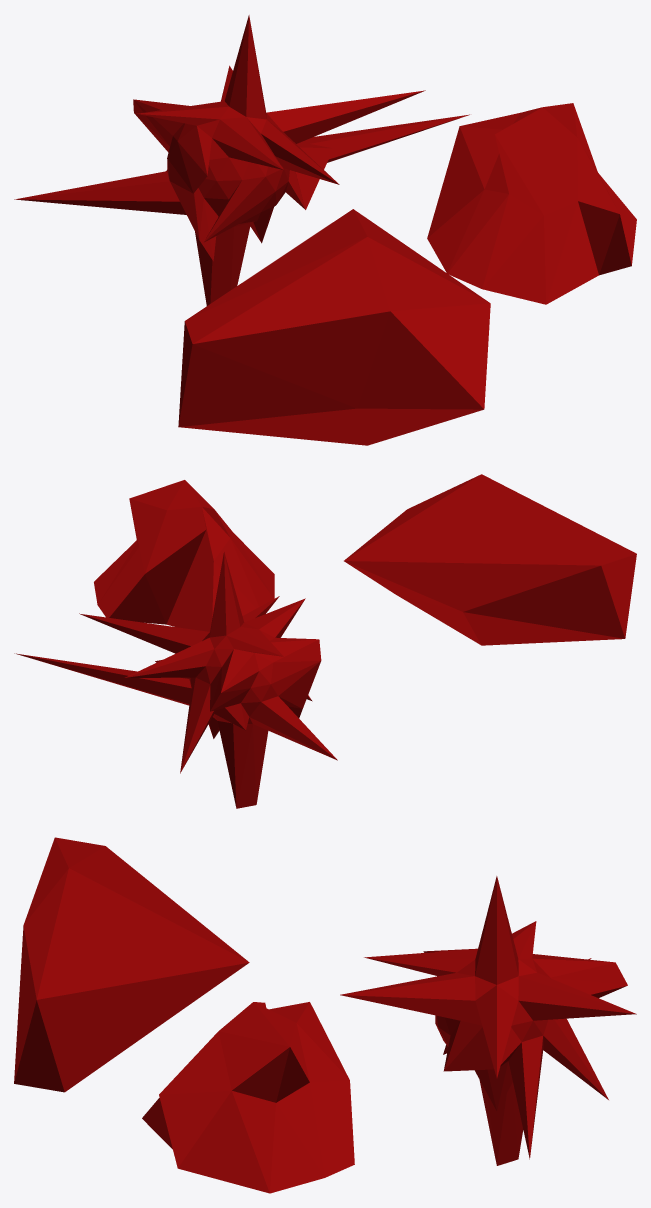
The model's file is Rcok .fbx.
The picture shows the model from 3 angles, top to bottom: view 1: azimuth 30°, elevation 25°; view 2: azimuth 150°, elevation 25°; view 3: azimuth 270°, elevation 25°; orthographic projection. The views are drawn at different scales.
Visible parts, largest first — view 1: Component_1_1, Component_3_1, Component_4_1; view 2: Component_1_1, Component_3_1, Component_4_1; view 3: Component_1_1, Component_4_1, Component_3_1.
Boxes of the visible parts, <box> form: Component_1_1: <box>178,209,490,445</box>; Component_3_1: <box>14,15,469,305</box>; Component_4_1: <box>427,103,636,304</box>; Component_1_1: <box>344,474,636,645</box>; Component_3_1: <box>14,551,337,808</box>; Component_4_1: <box>94,480,274,631</box>; Component_1_1: <box>14,837,249,1092</box>; Component_4_1: <box>142,1002,354,1193</box>; Component_3_1: <box>340,876,636,1165</box>.
Size of the model in its own units: 60.5 by 31.72 by 59.59.
